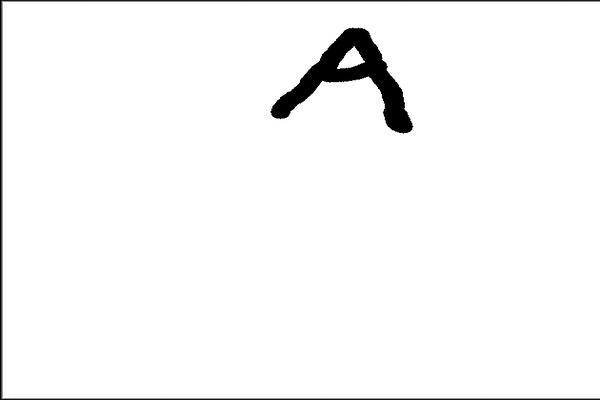A: (265, 17, 416, 143)
